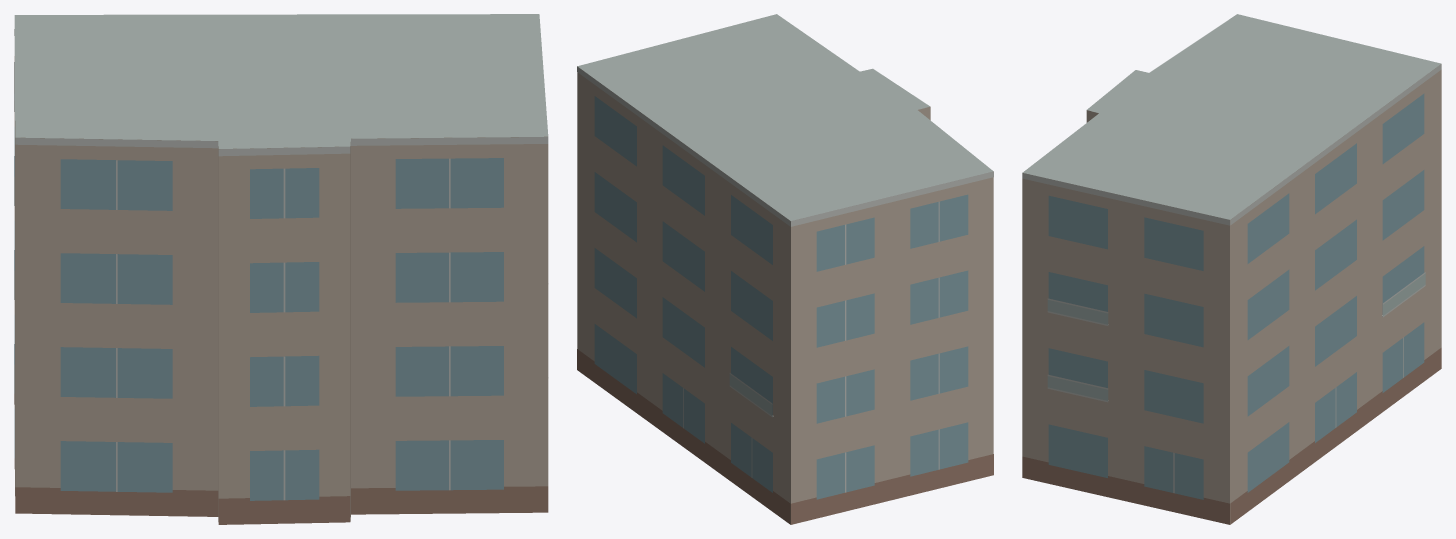
Rendered from survey-upis-32743866.glb.
3 views of the same model, side by side, from view 1: azimuth 30°, elevation 25°; view 2: azimuth 150°, elevation 25°; view 3: azimuth 270°, elevation 25° (orthographic). The views are drawn at different scales.
Parts seen in each view (by area): view 1: survey-upis-32743866.tmp; view 2: survey-upis-32743866.tmp; view 3: survey-upis-32743866.tmp.
Part boxes in pixels (bbox=[...]): survey-upis-32743866.tmp: bbox=[14, 14, 548, 524]; survey-upis-32743866.tmp: bbox=[577, 14, 993, 524]; survey-upis-32743866.tmp: bbox=[1022, 14, 1441, 524].
Bounding box in the file's own units: 18.54 × 12.8 × 15.95.
